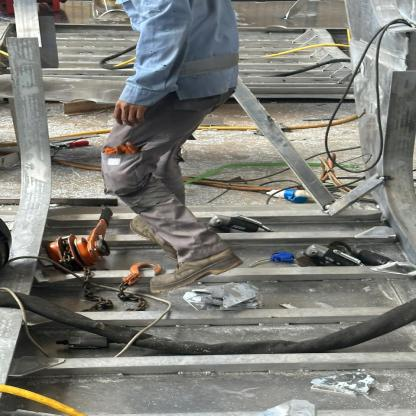bota: (138, 250, 257, 298)
